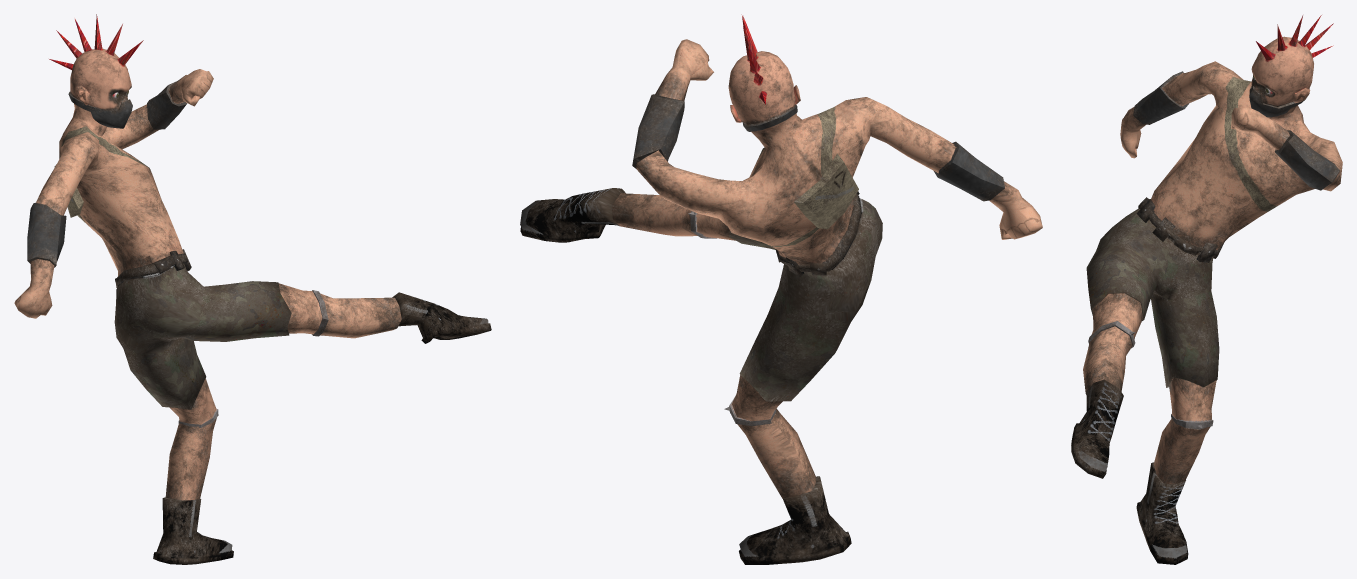
Rendered from Anim_ataque_f1_npc2.0022.obj.
3 renders of one model, left to right at view 1: azimuth 30°, elevation 25°; view 2: azimuth 150°, elevation 25°; view 3: azimuth 270°, elevation 25°, orthographic. The views are drawn at different scales.
Parts seen in each view (by area): view 1: polySurface1; view 2: polySurface1; view 3: polySurface1.
Part boxes in pixels (left/top/right/bottom): polySurface1: left=14, top=14, right=491, bottom=564; polySurface1: left=520, top=14, right=1042, bottom=564; polySurface1: left=1071, top=15, right=1342, bottom=564.
Size of the model in its own units: 8.72 by 9.32 by 4.43.
